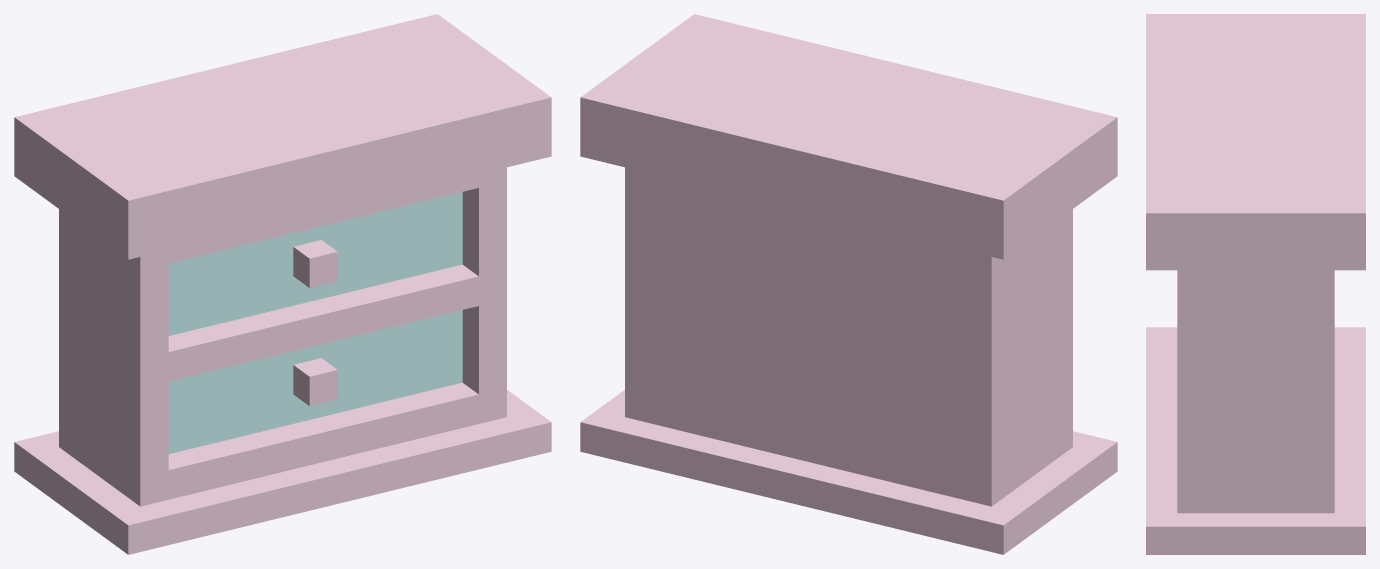
Rendered from Comoda salon.obj.
The picture shows the model from 3 angles, left to right: view 1: azimuth 30°, elevation 25°; view 2: azimuth 150°, elevation 25°; view 3: azimuth 270°, elevation 25°; orthographic projection. The views are drawn at different scales.
Size of the model in its own units: 1.5 by 1.2 by 0.7.
1 material, 1 textured.
